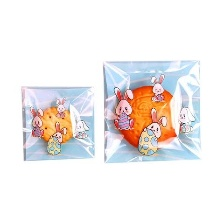snack: (99, 52, 208, 167), (16, 78, 100, 167)
